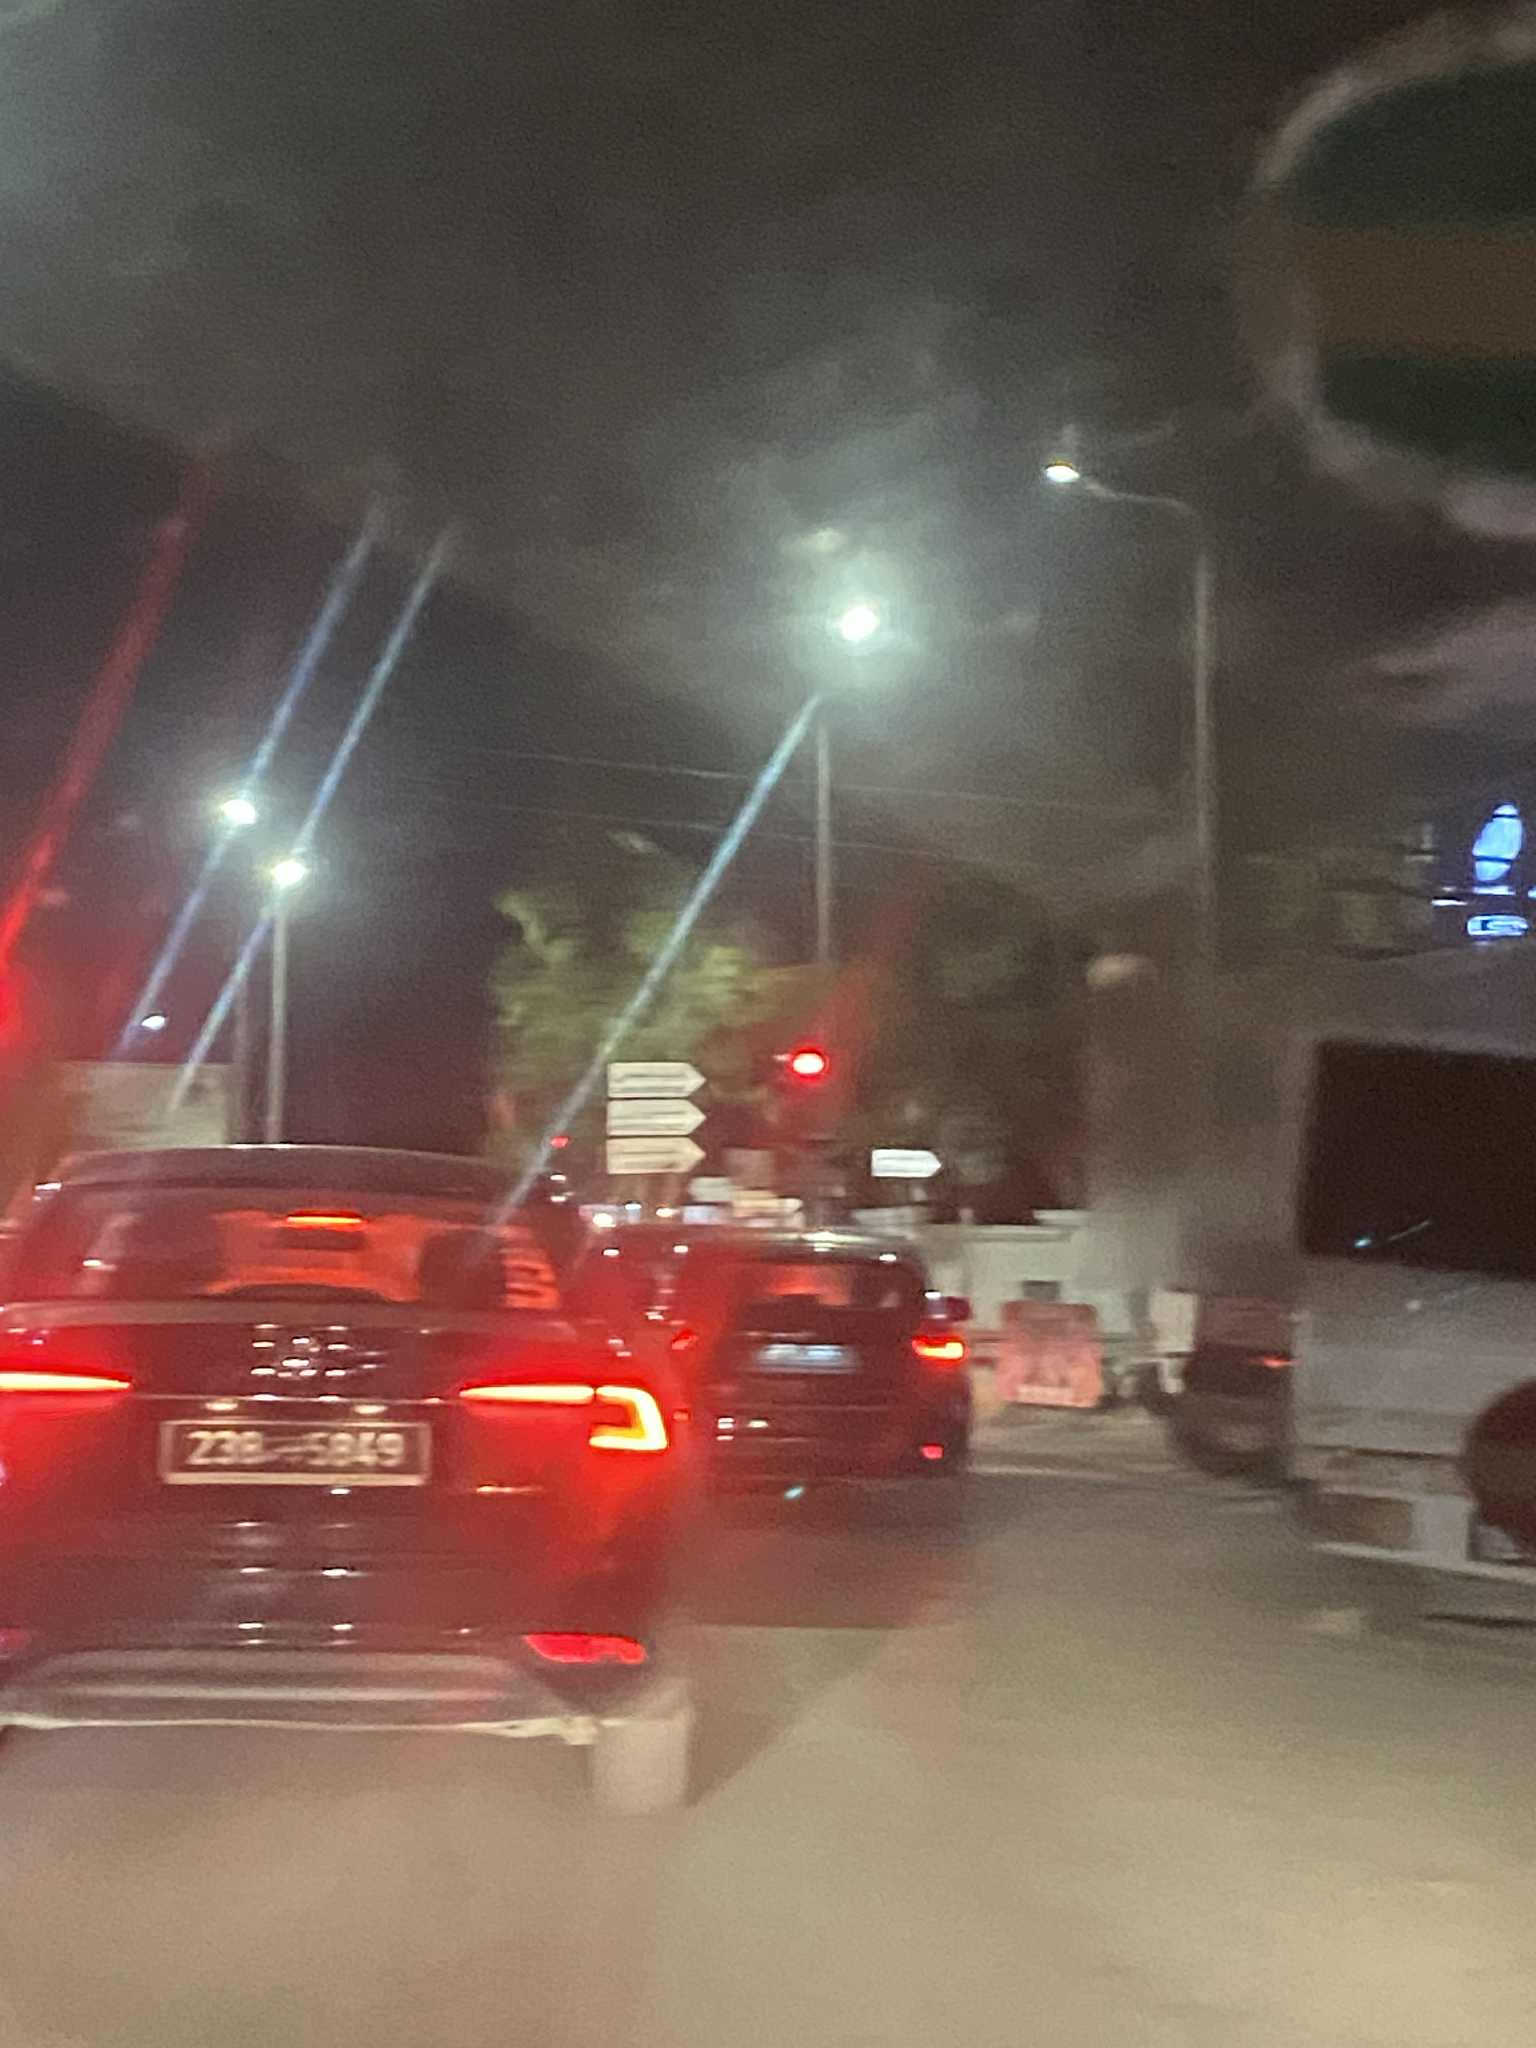RedLight: (781, 1034, 836, 1153)
